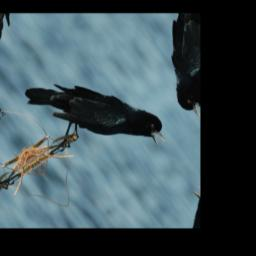Crow: (17, 41, 174, 192)
